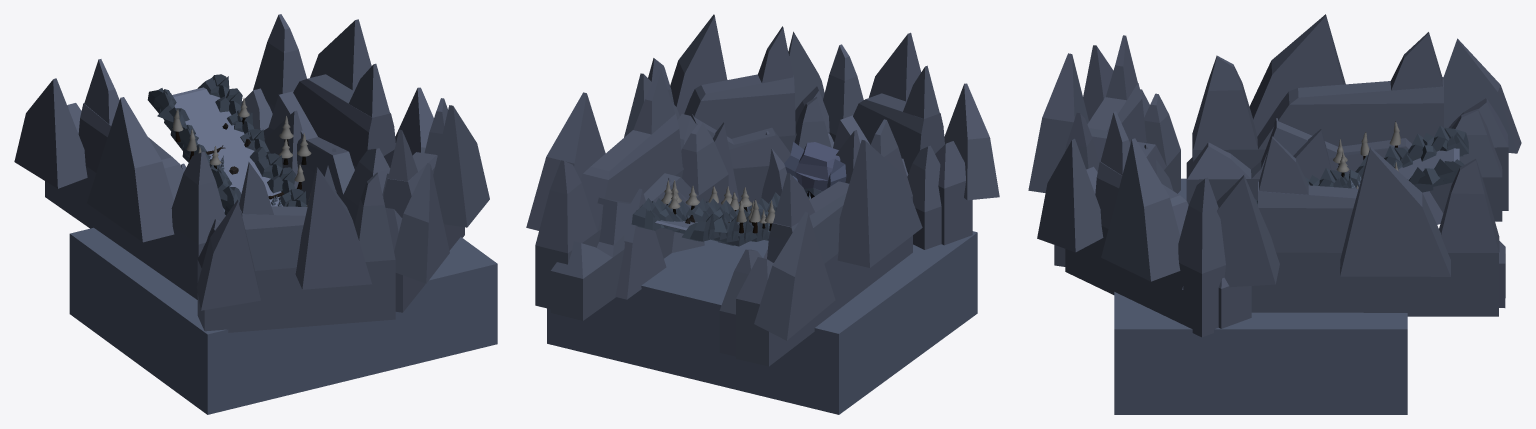
File: outside_v2.obj
3 renders of one model, left to right at view 1: azimuth 30°, elevation 25°; view 2: azimuth 150°, elevation 25°; view 3: azimuth 270°, elevation 25°, orthographic. The views are drawn at different scales.
Visible parts, largest first — view 1: pCube3, pCube10, club_p_mountains1:pCube8, pCube8, pCube9, pCube13, pCube2; view 2: pCube3, pCube8, club_p_mountains1:pCube8, pCube10, pCube9, pCube13, pCube18; view 3: pCube8, club_p_mountains1:pCube8, pCube3, pCube9, pCube10, pCube13, pCube2.
Boxes of the visible parts, bbox=[...] form: pCube3: bbox=[69, 205, 497, 414]; pCube10: bbox=[196, 162, 395, 332]; club_p_mountains1:pCube8: bbox=[14, 59, 225, 299]; pCube8: bbox=[241, 14, 433, 224]; pCube9: bbox=[382, 98, 489, 312]; pCube13: bbox=[147, 74, 306, 215]; pCube2: bbox=[174, 89, 282, 206]; pCube3: bbox=[547, 207, 977, 414]; pCube8: bbox=[526, 69, 728, 320]; club_p_mountains1:pCube8: bbox=[719, 119, 922, 366]; pCube10: bbox=[823, 32, 999, 249]; pCube9: bbox=[648, 14, 831, 203]; pCube13: bbox=[631, 192, 780, 246]; pCube18: bbox=[795, 142, 840, 191]; pCube8: bbox=[1182, 136, 1505, 316]; club_p_mountains1:pCube8: bbox=[1186, 14, 1521, 224]; pCube3: bbox=[1114, 178, 1407, 414]; pCube9: bbox=[1037, 111, 1251, 337]; pCube10: bbox=[1028, 35, 1180, 266]; pCube13: bbox=[1254, 125, 1468, 205]; pCube2: bbox=[1355, 148, 1453, 188].
Bounding box in the file's own units: 25446 × 18698 × 32554.
